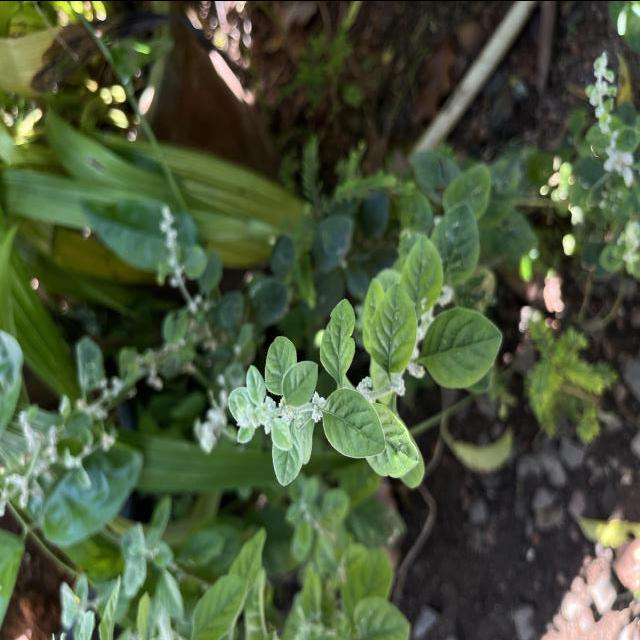Aerva lanata: (320, 384, 388, 460), (317, 295, 358, 381), (264, 332, 298, 398)
